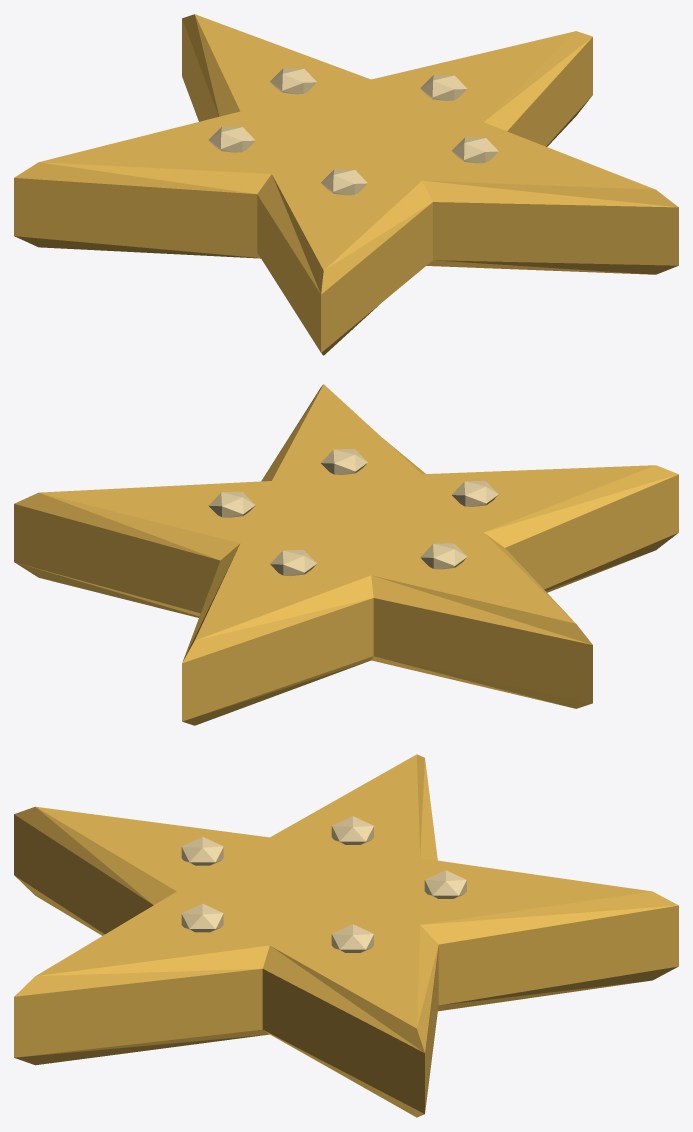
File: golden-starfish.glb
The picture shows the model from 3 angles, top to bottom: view 1: azimuth 30°, elevation 25°; view 2: azimuth 150°, elevation 25°; view 3: azimuth 270°, elevation 25°; orthographic projection. The views are drawn at different scales.
Visible parts, largest first — view 1: star, spot-3, spot-2, spot-4, spot-0, spot-1; view 2: star, spot-4, spot-2, spot-0, spot-1, spot-3; view 3: star, spot-2, spot-3, spot-1, spot-0, spot-4.
Part boxes in pixels (x1=…): star: x1=14, y1=14, x2=678, y2=355; spot-3: x1=321, y1=169, x2=367, y2=195; spot-2: x1=452, y1=137, x2=498, y2=163; spot-4: x1=208, y1=126, x2=255, y2=152; spot-0: x1=270, y1=68, x2=316, y2=94; spot-1: x1=420, y1=74, x2=466, y2=100; star: x1=14, y1=384, x2=678, y2=725; spot-4: x1=420, y1=543, x2=467, y2=569; spot-2: x1=321, y1=448, x2=367, y2=474; spot-0: x1=270, y1=550, x2=316, y2=576; spot-1: x1=208, y1=491, x2=255, y2=517; spot-3: x1=452, y1=480, x2=498, y2=506; star: x1=14, y1=754, x2=678, y2=1117; spot-2: x1=181, y1=903, x2=223, y2=932; spot-3: x1=181, y1=836, x2=223, y2=865; spot-1: x1=331, y1=924, x2=373, y2=952; spot-0: x1=424, y1=870, x2=466, y2=898; spot-4: x1=331, y1=816, x2=373, y2=844.
Bounding box in the file's own units: 0.6761 × 0.1119 × 0.643.
